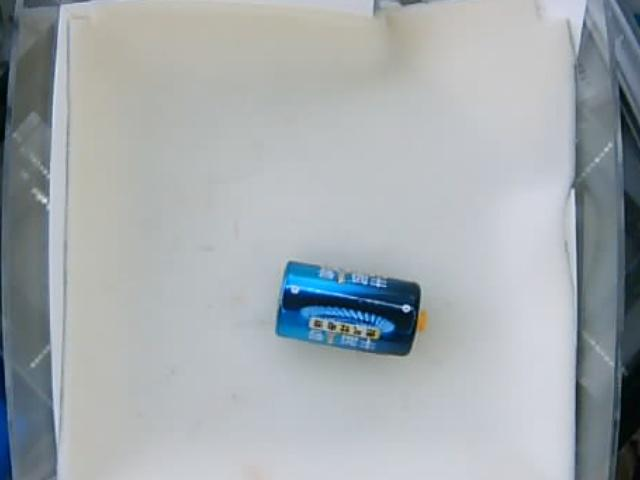Battery: (272, 259, 431, 359)
